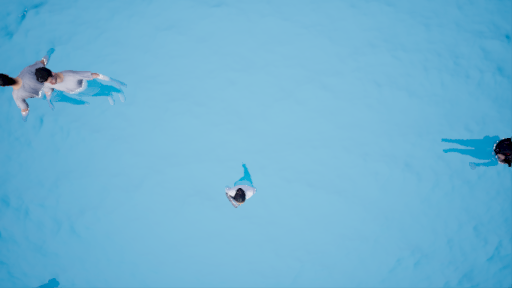person: (36, 53, 139, 123), (440, 126, 512, 178), (1, 50, 48, 126), (218, 160, 266, 213)
